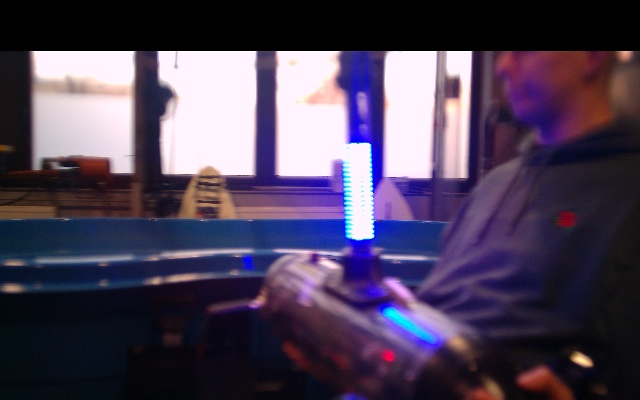blue: (343, 142, 376, 242)
